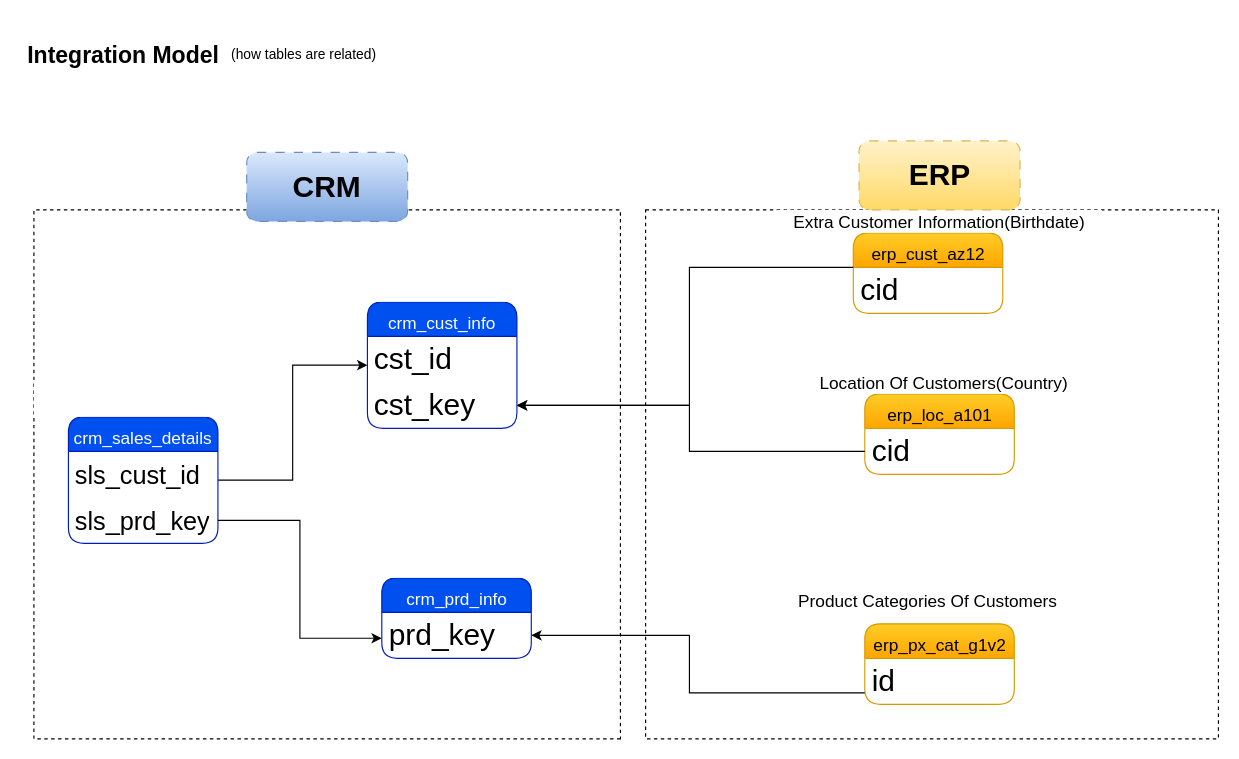
The diagram is 1239 pixels wide and 759 high, and some of its shapes have lost their labels. Here are the shapes that lost their labels. From the top down, the centre of each, then its label:
At pixel 441 284: "Customer Information".
At pixel 157 399: "Transactional Records about Sales & Orders".
At pixel 455 560: "Current & History Product Information".
